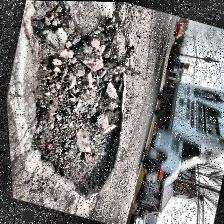pothole: (1, 13, 151, 202)
